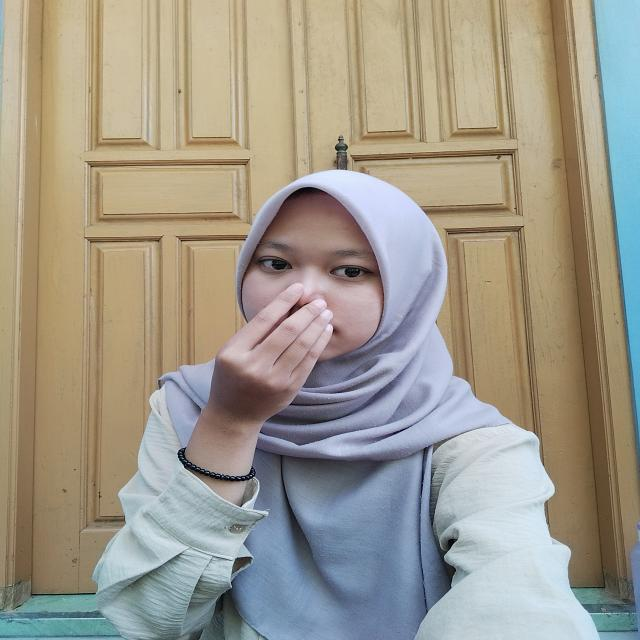bau: (166, 278, 347, 448)
